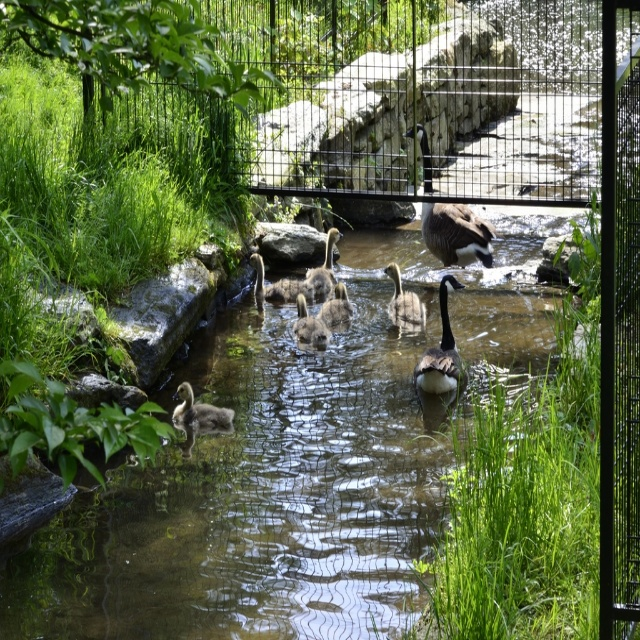Duck: (402, 118, 498, 274), (412, 271, 465, 391), (245, 249, 288, 341), (169, 378, 235, 435), (382, 263, 426, 344), (292, 287, 331, 354), (312, 227, 346, 303), (322, 276, 354, 344)
